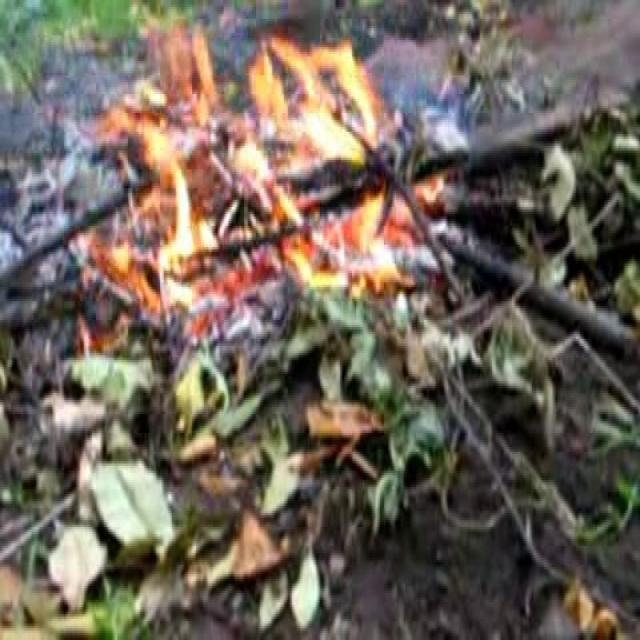Fire: (278, 52, 358, 187)
